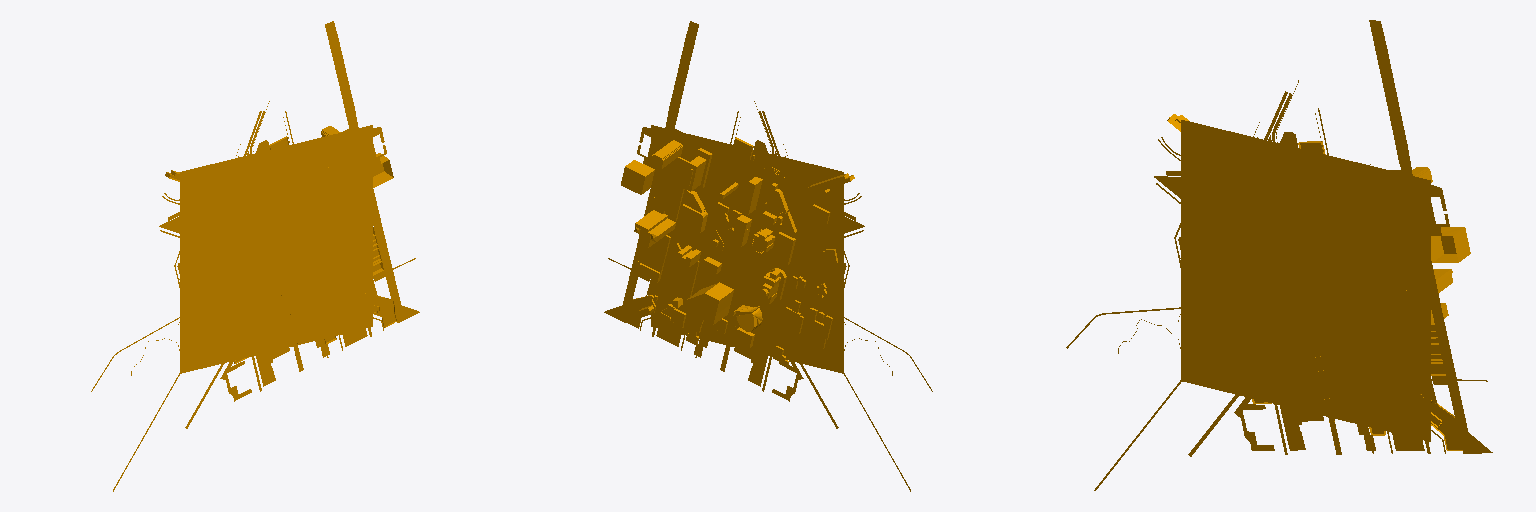
The robot description file, URDF, robot "environment":
<?xml version="1.0" ?>
<robot name="environment">
<link name="buildings">
  <inertial>
    <origin rpy="0 0 0" xyz="0 0 0"/>
    <mass value="0"/>
    <inertia ixx="0" ixy="0" ixz="0" iyy="0" iyz="0" izz="0"/>
  </inertial>
  <visual>
    <origin rpy="0 0 0" xyz="0 0 0"/>
    <geometry>
      <mesh filename="meshes/test.obj"/>
    </geometry>
  </visual>
  <!-- <collision>
      <origin rpy="0 0 0" xyz="0 0 0"/>
      <geometry>
	 	    <mesh filename="meshes/output.obj"/>
      </geometry>
  </collision> -->
</link>
</robot>

--- Render facts (derived) ---
Views: 3 orthographic renders of the robot side by side, from view 1: azimuth 30°, elevation 25°; view 2: azimuth 150°, elevation 25°; view 3: azimuth 330°, elevation 25°.
Model environment with 1 links and 0 joints (none), rooted at buildings, posed all joints at 0.
Visible links, largest first — view 1: buildings; view 2: buildings; view 3: buildings.
Boxes of the visible links, <box> form: buildings: <box>91,21,419,491</box>; buildings: <box>604,21,932,491</box>; buildings: <box>1066,20,1492,490</box>.
Size in the robot's own frame: 1026 by 110 by 1239 metres.
1 mesh visuals loaded from 1 distinct referenced files (1 OBJ).